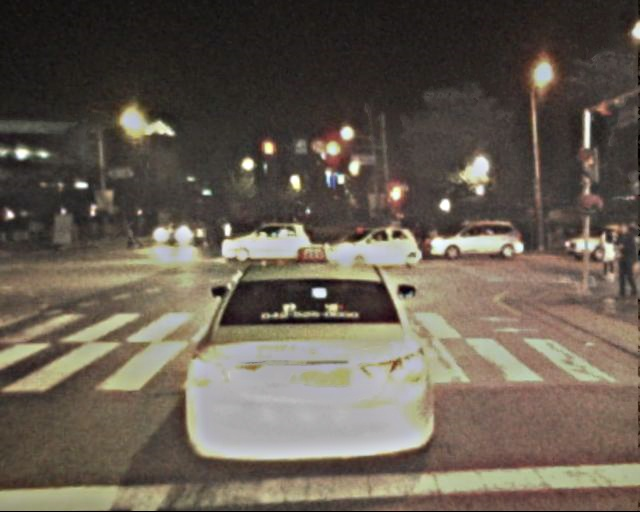person: (612, 221, 640, 289), (595, 228, 616, 280), (206, 219, 227, 243), (126, 216, 140, 251), (170, 216, 184, 251), (191, 218, 204, 249)
